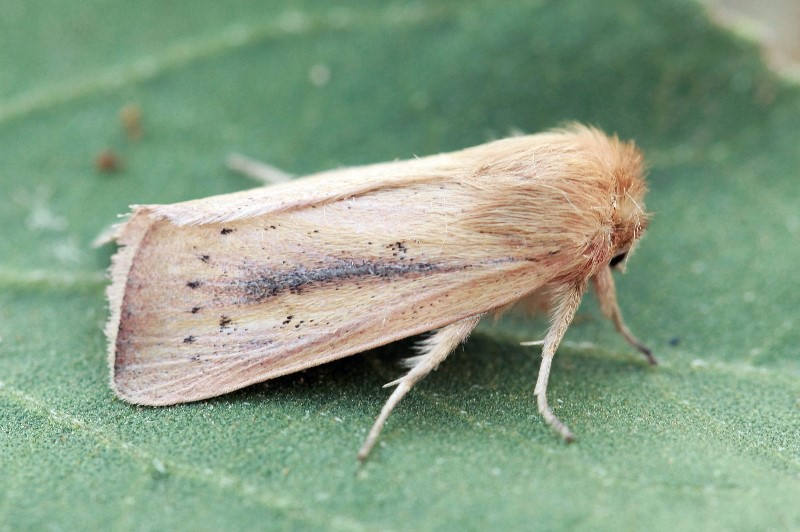Noctuidae: (103, 109, 659, 463)
